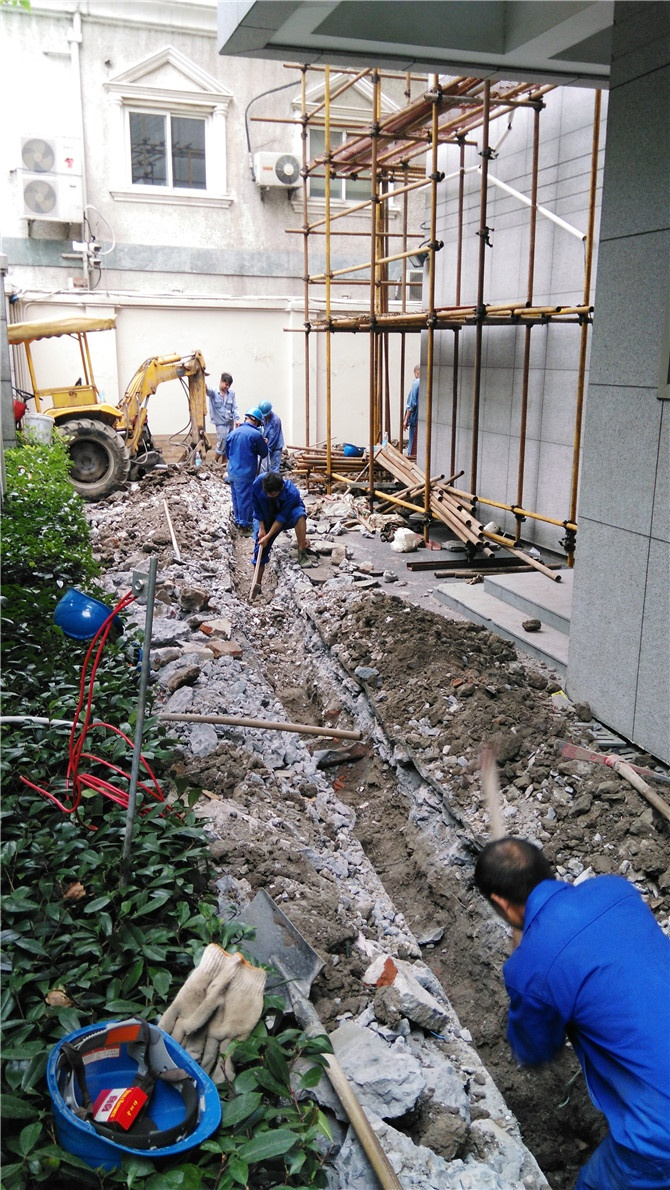blue: (243, 407, 263, 428), (257, 398, 273, 417)
none: (475, 826, 556, 925), (260, 469, 285, 499), (217, 372, 233, 390)
